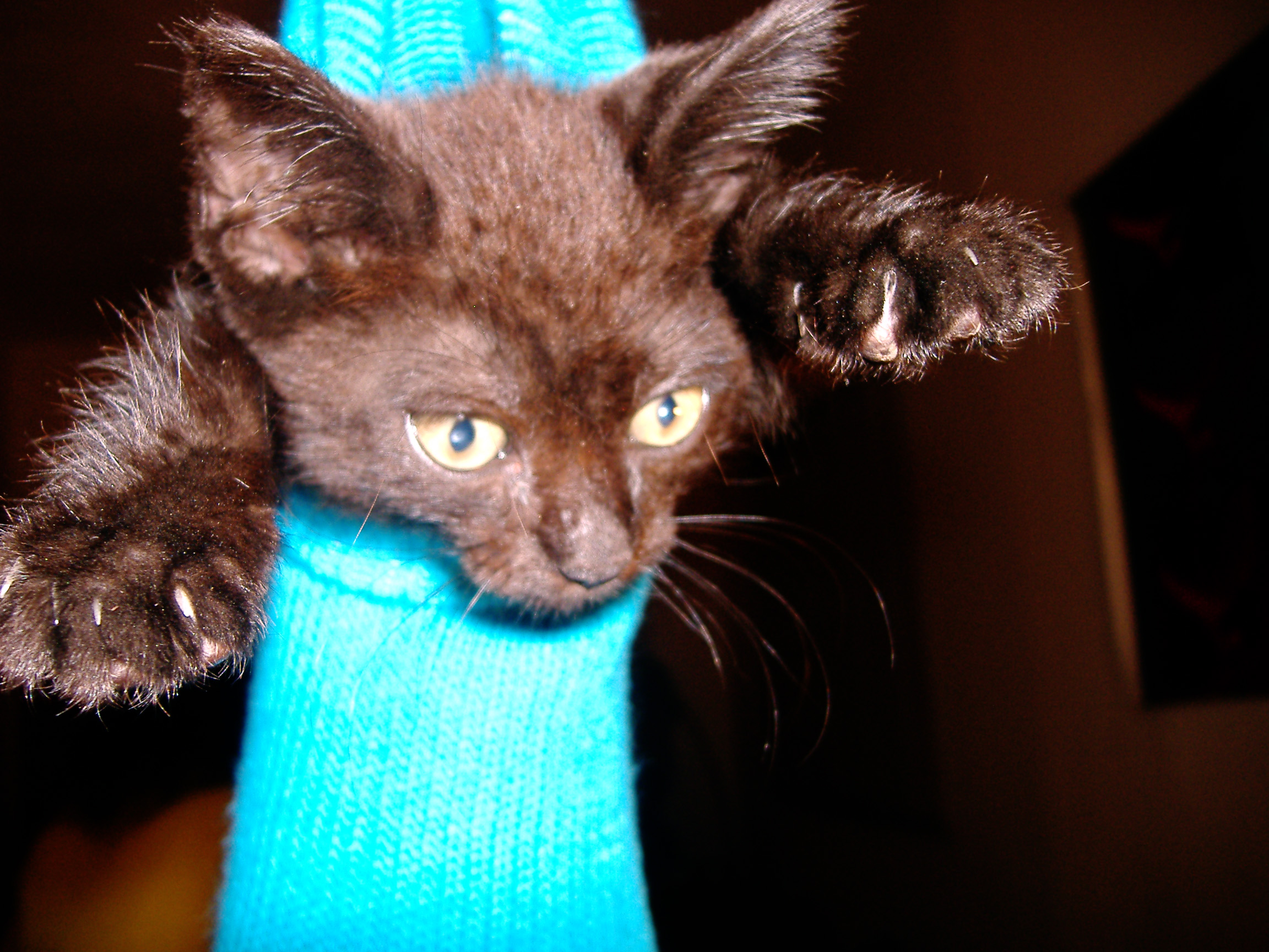cat: (0, 0, 1093, 727)
